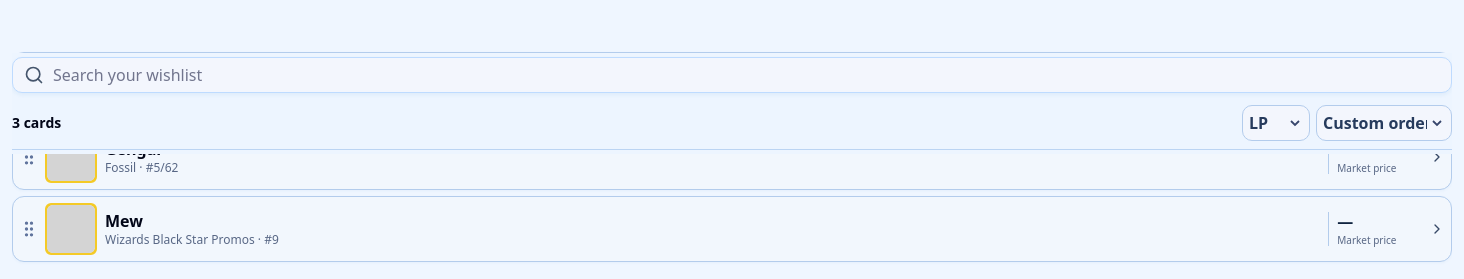
shows compact list, searches, and disables dragging while a different sort is selected
Expected: the search field labelled "Search your wishlist" is shown, top-left (12, 57), bottom-right (1452, 93)
Expected: the text "3 cards" is shown, top-left (12, 113), bottom-right (61, 132)
Select "Name" in the dropdown named "Sort Wishlist": (1384, 123) top-left (1316, 105), bottom-right (1452, 141)
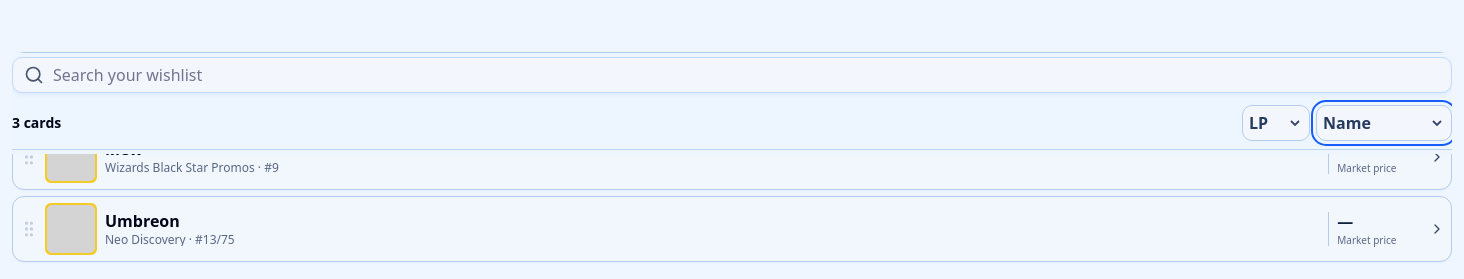
Expected: the button named "Move " is disabled, top-left (13, 53), bottom-right (45, 117)
Select "Custom order" in the dropdown named "Sort Wishlist": (1384, 123) top-left (1316, 105), bottom-right (1452, 141)
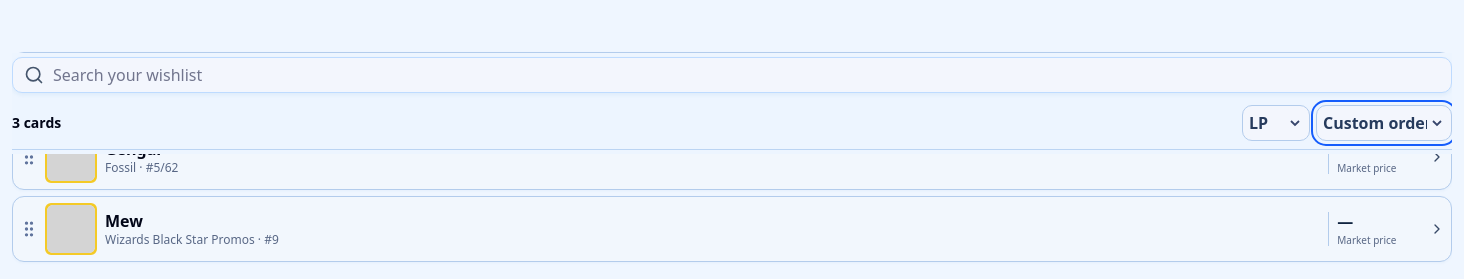
In the search field labelled "Search your wishlist": (732, 75) top-left (12, 57), bottom-right (1452, 93), type "Gengar"
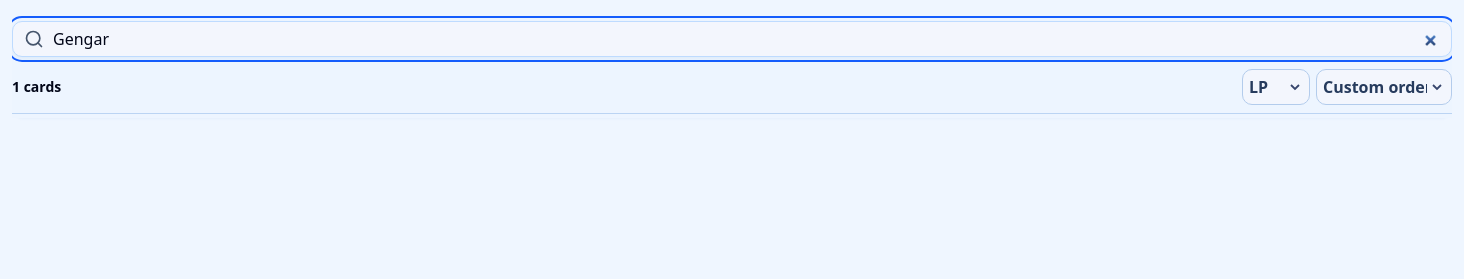
Expected: the number of list items is 1, top-left (12, 52), bottom-right (1452, 118)
Expected: the button named "Move " is disabled, top-left (13, 53), bottom-right (45, 117)
